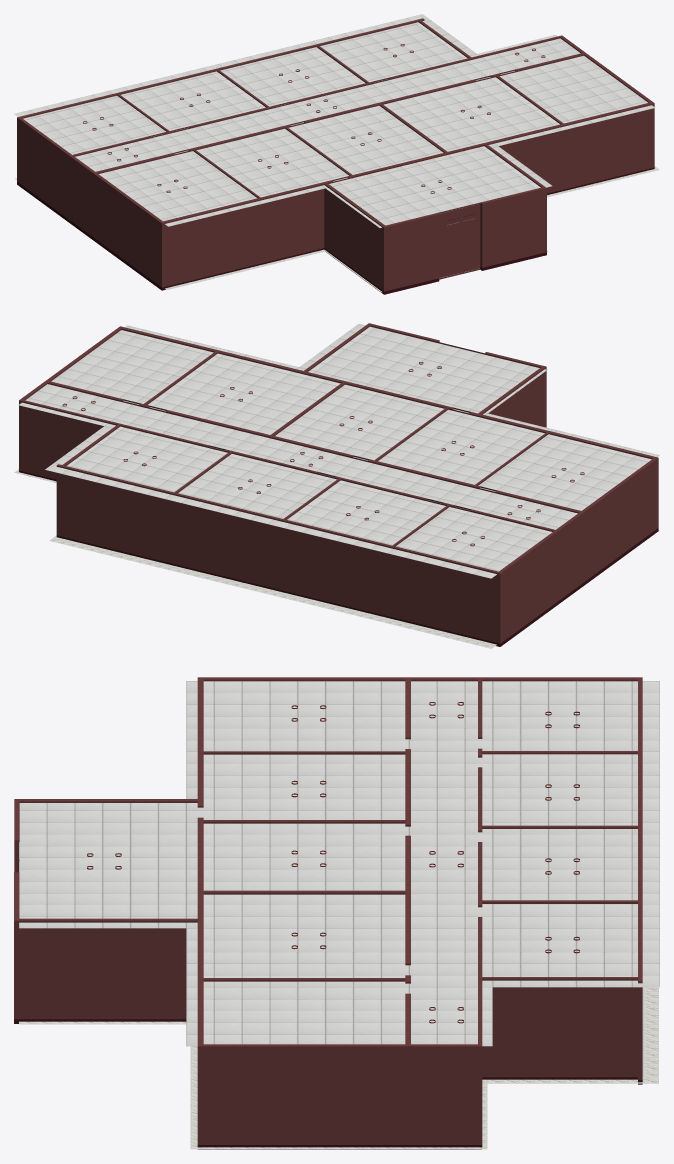
The model's file is structure.glb.
3 renders of one model, top to bottom at view 1: azimuth 30°, elevation 25°; view 2: azimuth 150°, elevation 25°; view 3: azimuth 270°, elevation 25°, orthographic. The views are drawn at different scales.
Parts seen in each view (by area): view 1: Plane, paredes, piso; view 2: Plane, paredes, piso; view 3: Plane, paredes, piso.
Part boxes in pixels (bbox=[...]): Plane: bbox=[14, 14, 655, 228]; paredes: bbox=[17, 18, 654, 294]; piso: bbox=[15, 166, 659, 292]; Plane: bbox=[18, 324, 659, 578]; paredes: bbox=[19, 323, 658, 646]; piso: bbox=[14, 469, 496, 648]; Plane: bbox=[19, 681, 659, 1046]; paredes: bbox=[14, 677, 642, 1149]; piso: bbox=[19, 987, 658, 1149].
Bounding box in the file's own units: 31.53 × 4.14 × 23.18.
Materials: 10 (3 with a texture image).
